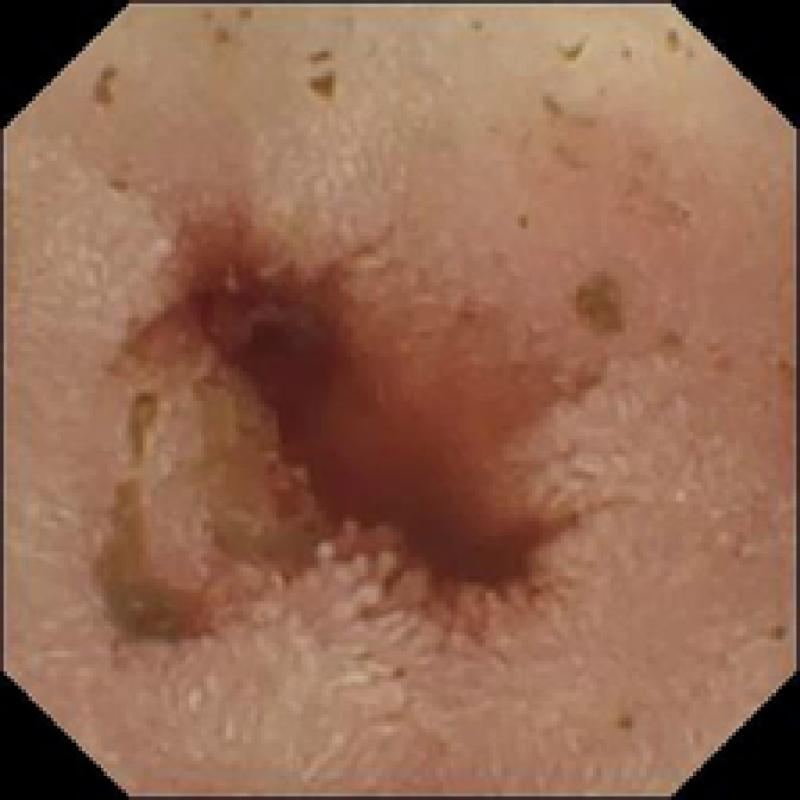bleeding: (182, 257, 339, 447)
